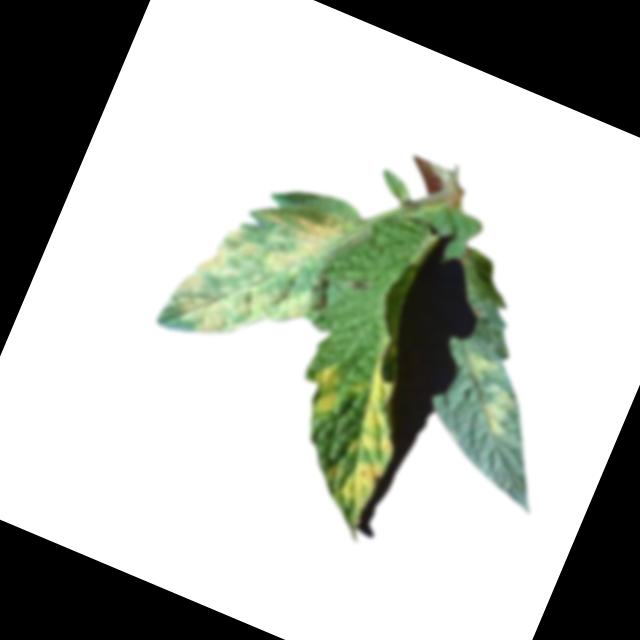Leaf_Mold: (161, 168, 352, 371), (310, 353, 428, 533), (301, 353, 353, 420), (470, 380, 523, 441), (461, 349, 501, 383)
